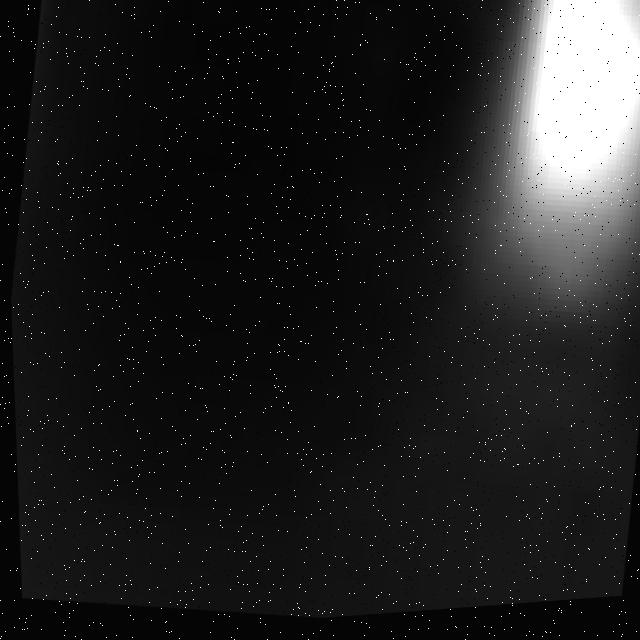person: (390, 1, 640, 408)
